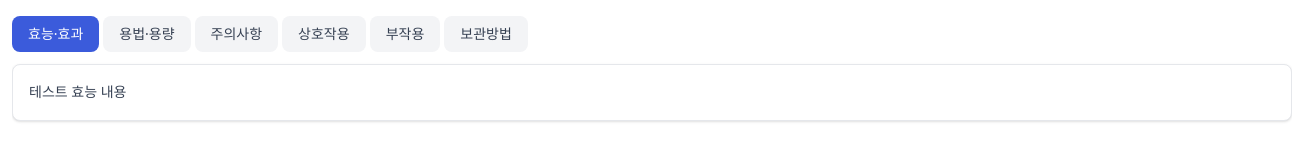
Test: MedicineInfoTabs › 다른 탭을 클릭하면 활성 탭과 내용이 변경
This screenshot has width=1292, height=160.
Click the tab "용법·용량". click: (147, 34)
box: [103,16,191,52]
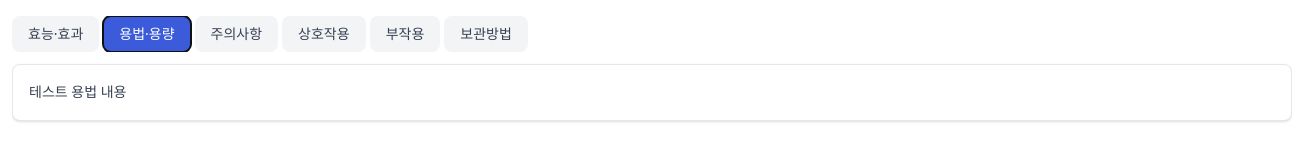
Result: the text "테스트 용법 내용" is shown at [29,82,126,101]
